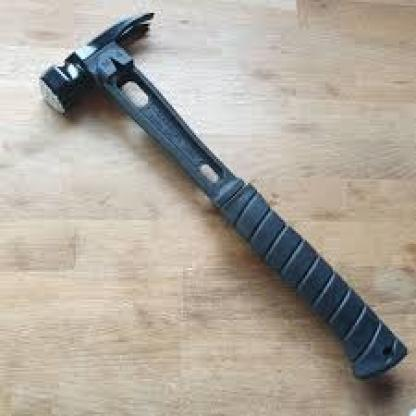Hammer: (33, 6, 412, 388)
